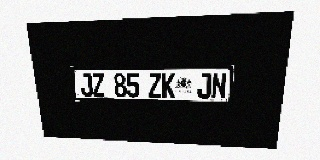5: (126, 73, 140, 97)
8: (113, 73, 127, 97)
J: (197, 73, 212, 99), (79, 73, 93, 97)
K: (162, 73, 175, 98)
N: (211, 73, 227, 99)
Z: (91, 73, 105, 97), (148, 73, 161, 98)
